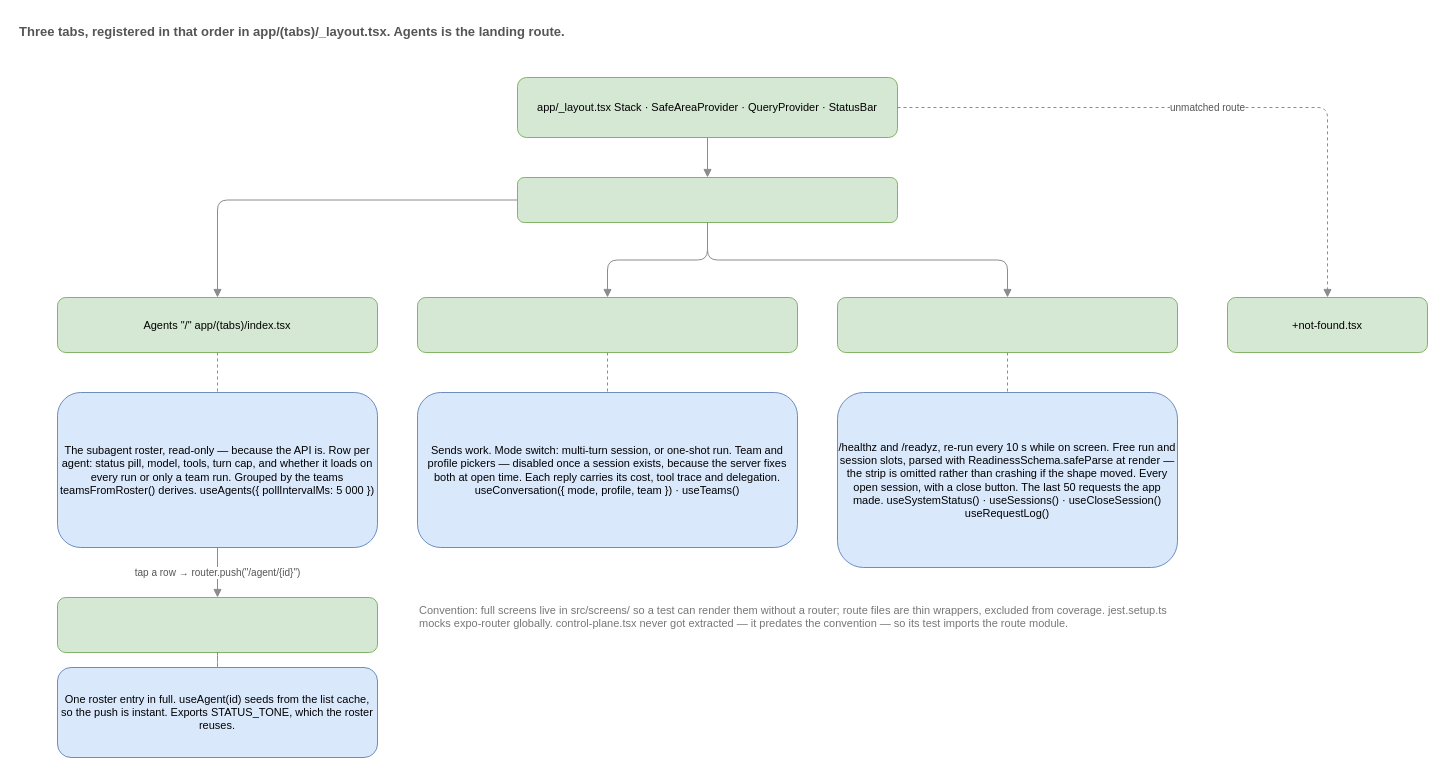
The diagram is 1445 pixels wide and 775 high, and some of its shapes have lost their labels. Each missing label, with the centre of its shape:
agent/[id].tsx → src/screens/AgentDetail.tsx pushed, not a tab: (x=217, y=624)
app/(tabs)/_layout.tsx — bottom tab bar: (x=707, y=199)
Control plane "/control-plane" app/(tabs)/control-plane.tsx: (x=1007, y=324)
Conversation "/chat" app/(tabs)/chat.tsx → src/screens/Conversation.tsx: (x=607, y=324)
